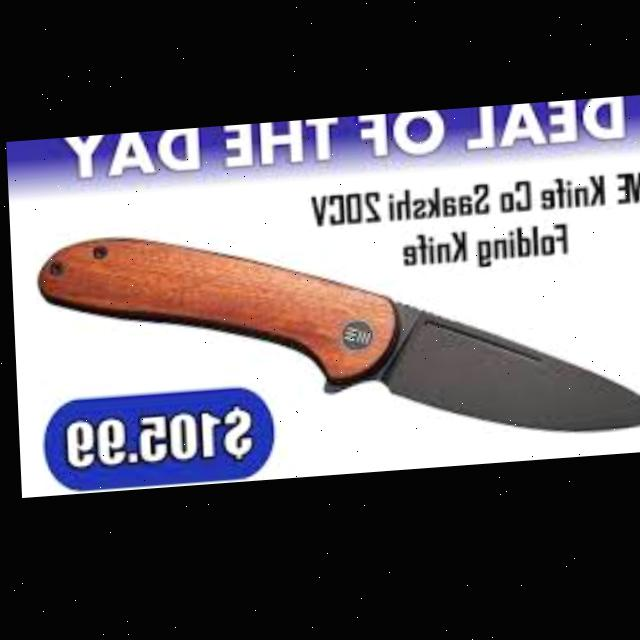Knife: (34, 206, 640, 471)
